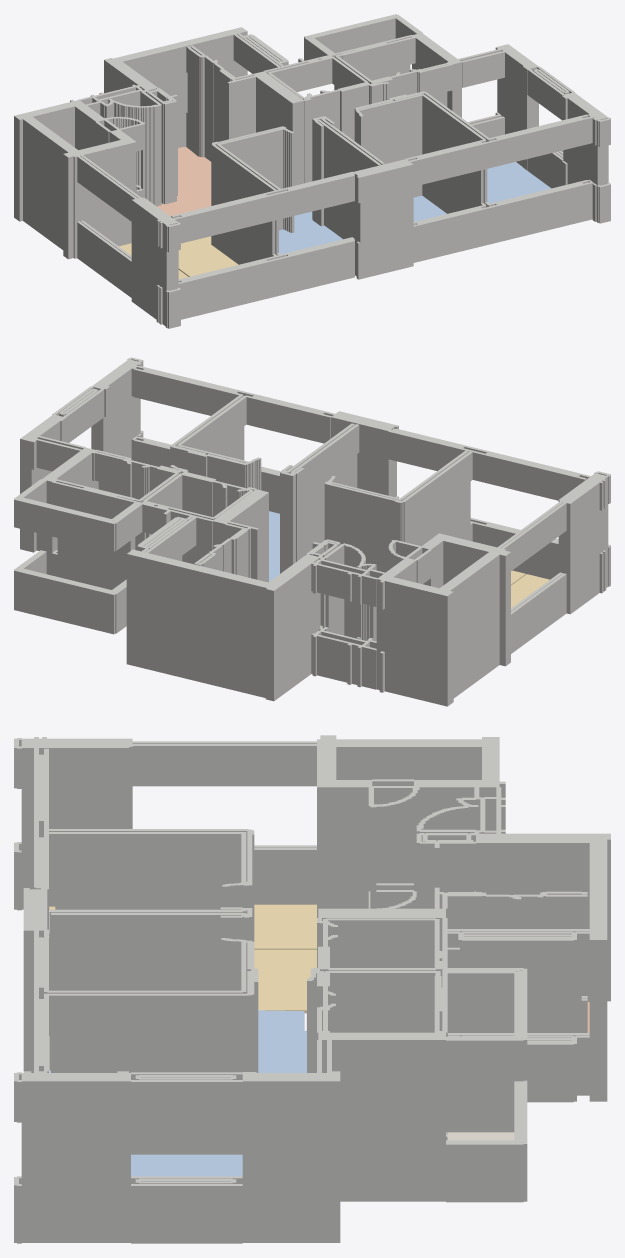
The picture shows the model from 3 angles, top to bottom: view 1: azimuth 30°, elevation 25°; view 2: azimuth 150°, elevation 25°; view 3: azimuth 270°, elevation 25°; orthographic projection. The views are drawn at different scales.
Parts seen in each view (by area): view 1: walls, room:kitchen:10, room:bedroom:8, room:living:5, room:bedroom:6, room:bedroom:7; view 2: walls, room:bedroom:7, room:living:4; view 3: walls, room:living:5, room:bedroom:6, room:living:4, room:bedroom:8.
Boxes of the visible parts, x1=… form: walls: x1=14, y1=14, x2=610, y2=328; room:kitchen:10: x1=157, y1=147, x2=211, y2=216; room:bedroom:8: x1=487, y1=162, x2=550, y2=203; room:living:5: x1=178, y1=236, x2=238, y2=276; room:bedroom:6: x1=279, y1=211, x2=342, y2=254; room:bedroom:7: x1=413, y1=195, x2=446, y2=221; walls: x1=14, y1=357, x2=610, y2=706; room:bedroom:7: x1=269, y1=511, x2=279, y2=581; room:living:4: x1=511, y1=574, x2=549, y2=607; walls: x1=14, y1=735, x2=610, y2=1243; room:living:5: x1=254, y1=949, x2=316, y2=1013; room:bedroom:6: x1=49, y1=1010, x2=306, y2=1072; room:living:4: x1=49, y1=904, x2=316, y2=949; room:bedroom:8: x1=131, y1=1154, x2=242, y2=1176.
Bounding box in the file's own units: 12.88 × 2.8 × 9.37.
